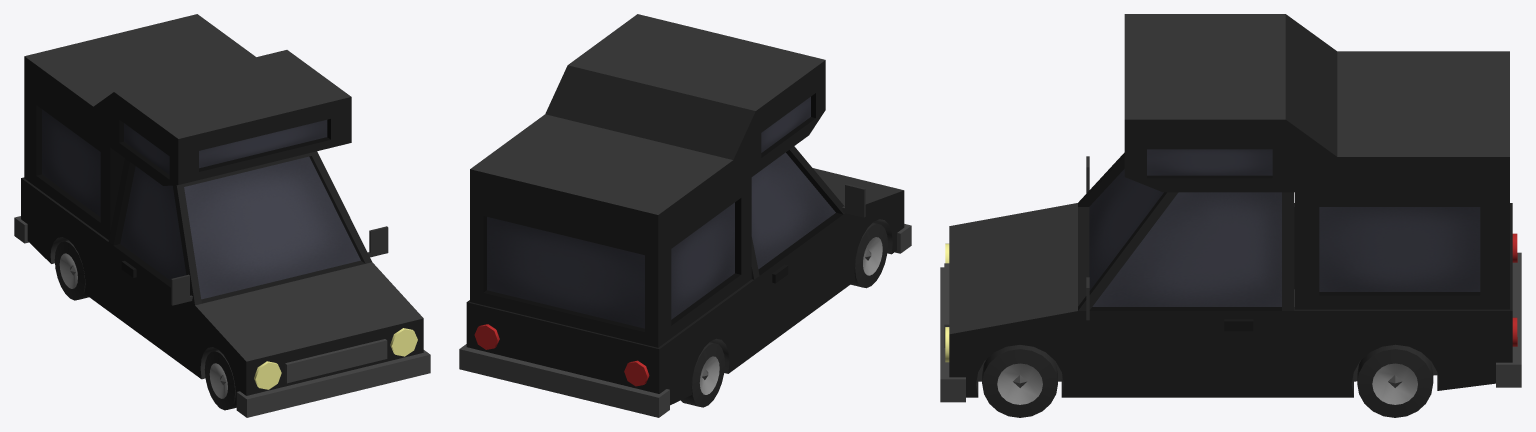
The model's file is Ban_A5.fbx.
3 renders of one model, left to right at view 1: azimuth 30°, elevation 25°; view 2: azimuth 150°, elevation 25°; view 3: azimuth 270°, elevation 25°, orthographic. The views are drawn at different scales.
Parts seen in each view (by area): view 1: Ban_Body, Ban_RF, Ban_RR; view 2: Ban_Body, Ban_RR, Ban_RF; view 3: Ban_Body, Ban_LR, Ban_LF.
Part boxes in pixels (box(x1,y1,x2,y2)): Ban_Body: box(14, 14, 430, 417); Ban_RF: box(204, 350, 236, 410); Ban_RR: box(54, 240, 88, 300); Ban_Body: box(459, 14, 911, 417); Ban_RR: box(681, 342, 724, 407); Ban_RF: box(851, 222, 887, 288); Ban_Body: box(940, 14, 1521, 402); Ban_LR: box(1357, 344, 1433, 417); Ban_LF: box(982, 345, 1057, 417).
Bounding box in the file's own units: 207 × 219 × 387.
1 material, 1 textured.
